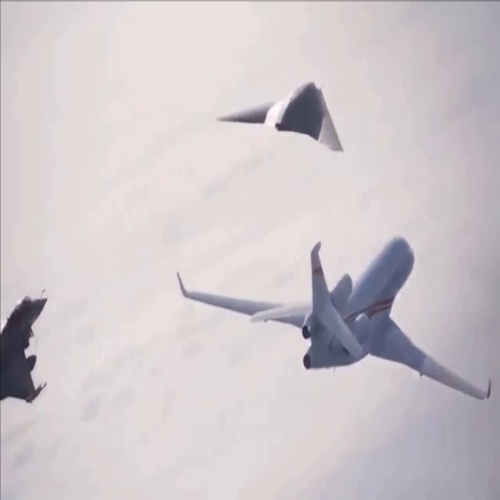uav906: (216, 75, 349, 155)
